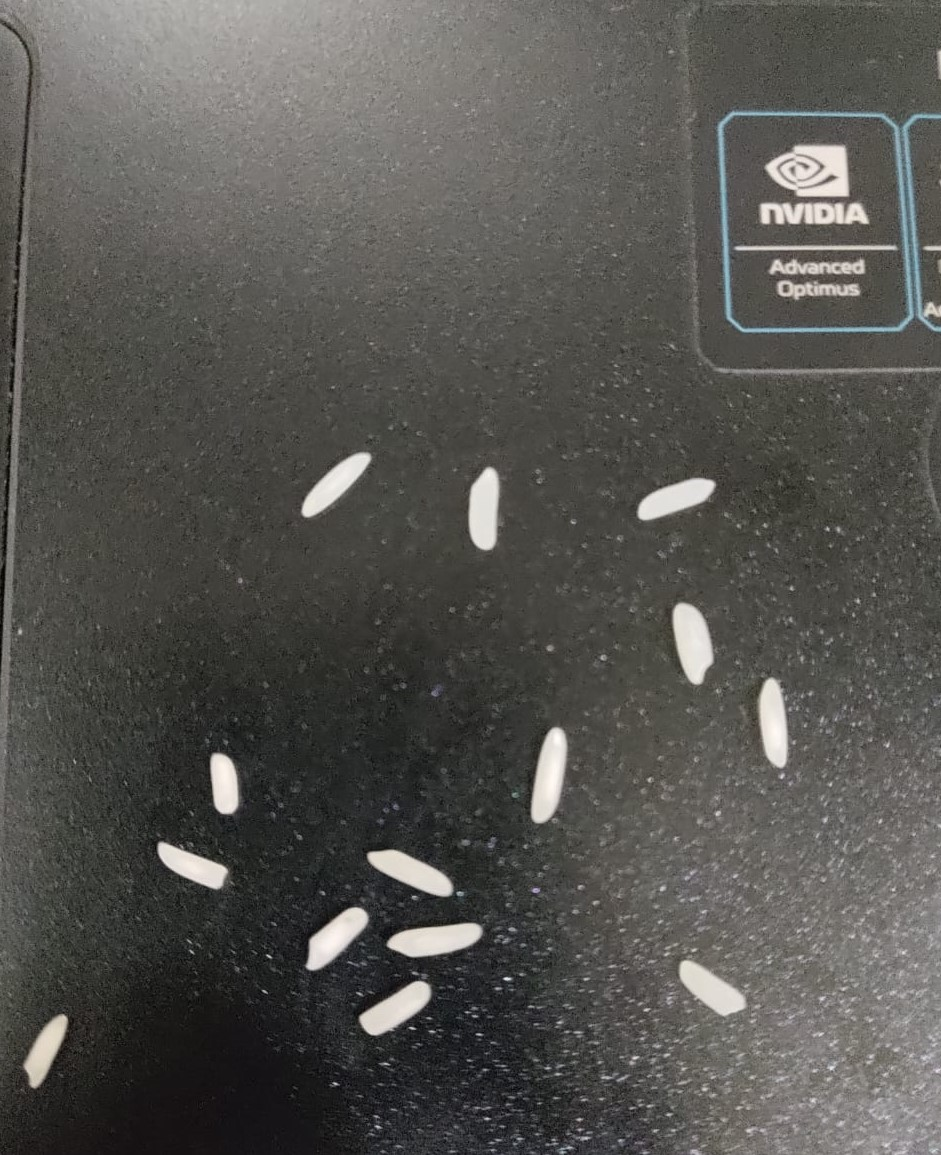broken_grain: (355, 973, 436, 1041), (148, 838, 236, 896)
complete_grain: (287, 445, 375, 523), (290, 903, 376, 977), (362, 841, 456, 901), (526, 723, 576, 834), (18, 1006, 73, 1103), (672, 954, 754, 1019), (667, 594, 723, 689), (752, 673, 798, 780), (632, 473, 719, 528), (464, 462, 510, 562), (383, 921, 488, 963), (201, 748, 245, 819)
